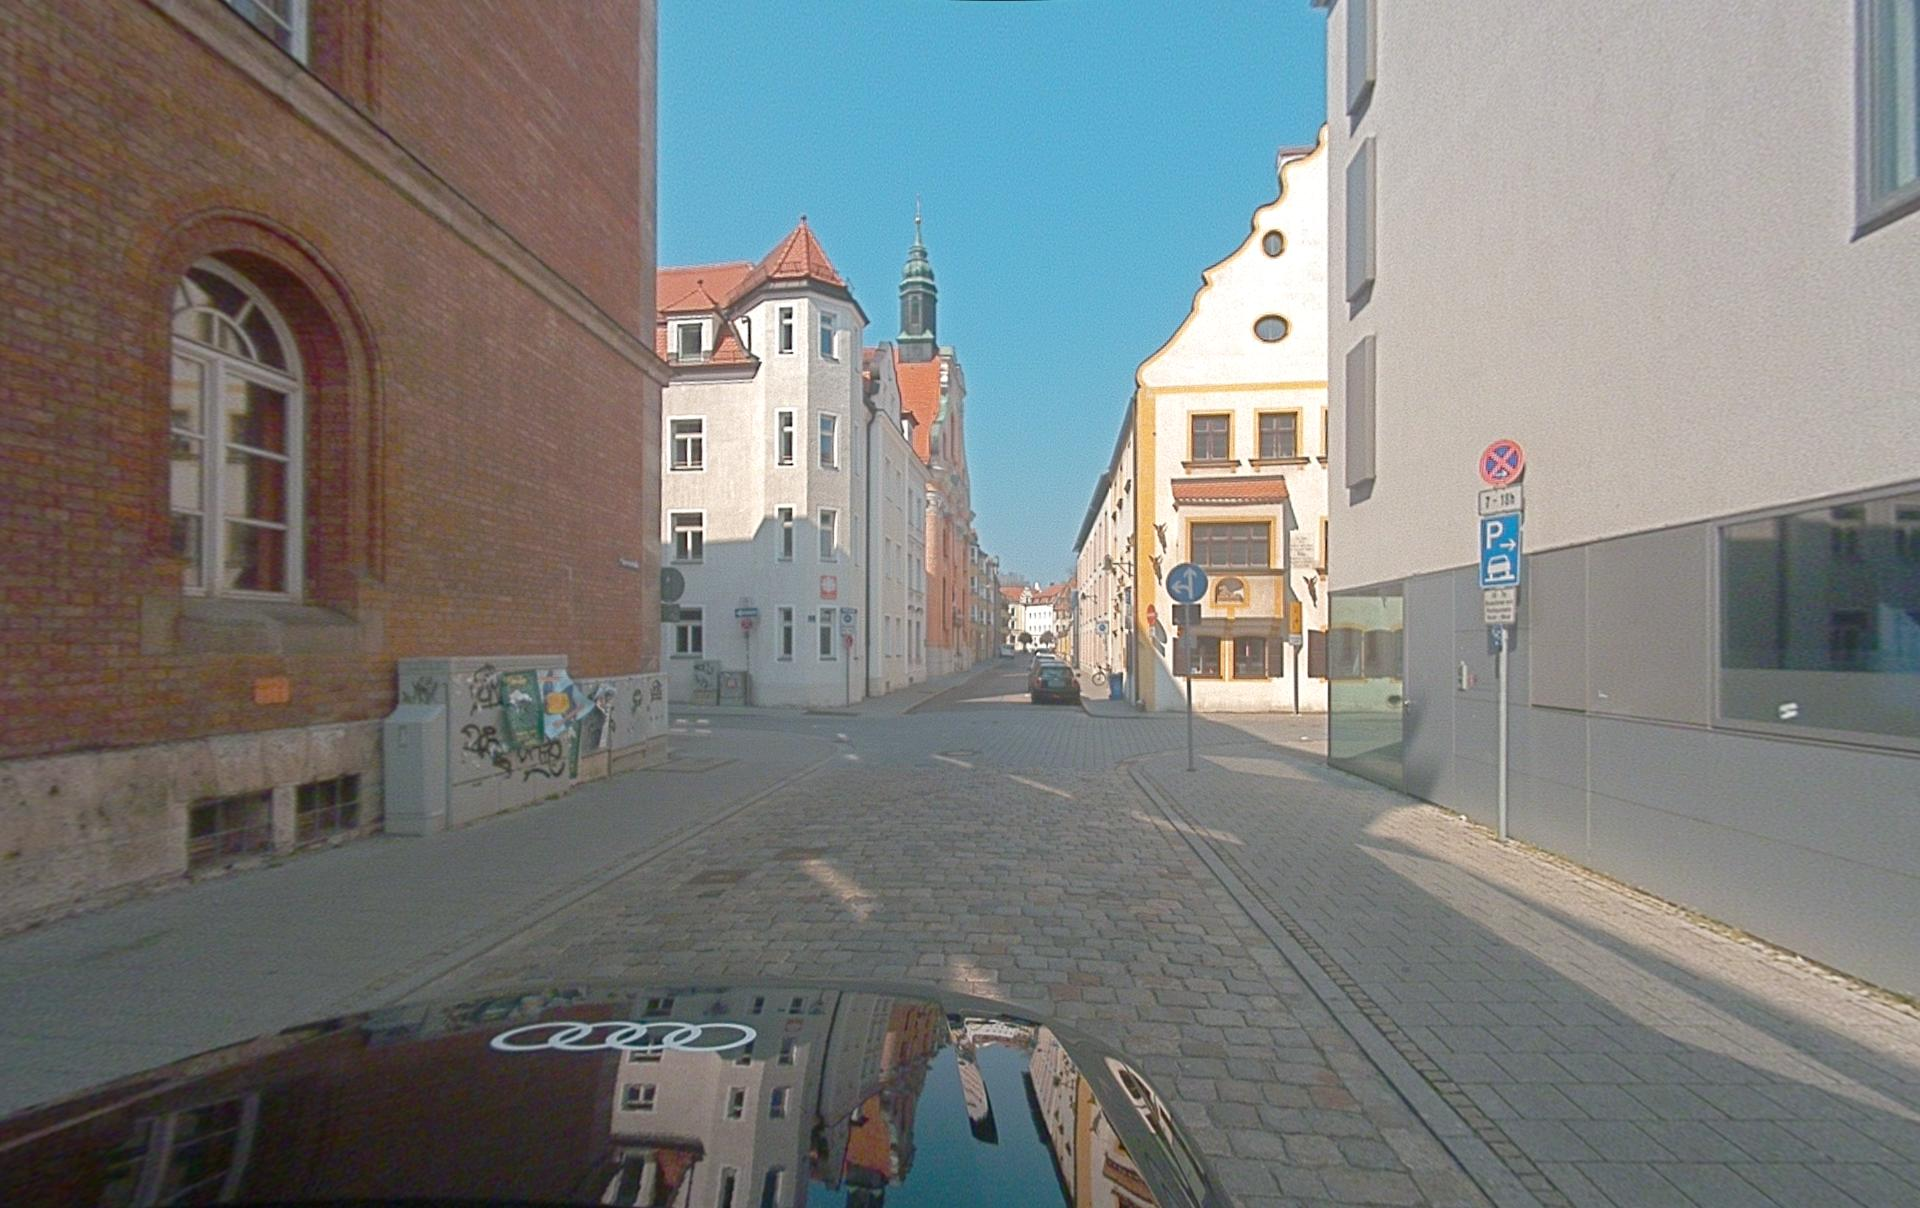car: (1030, 662, 1081, 704)
traffic sign: (1479, 513, 1522, 588), (1166, 562, 1209, 605), (1476, 486, 1525, 516)
